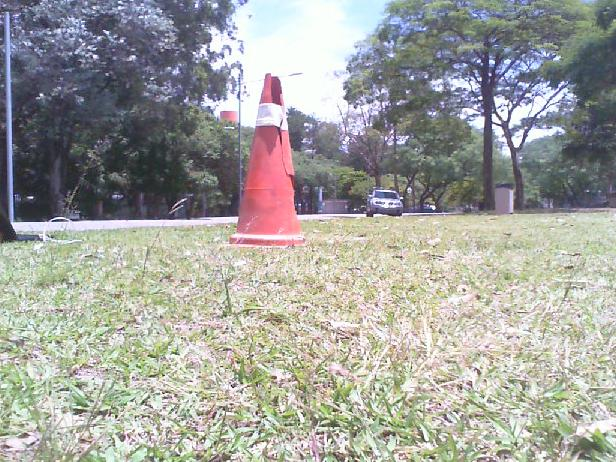0 cone: (230, 73, 307, 247)
